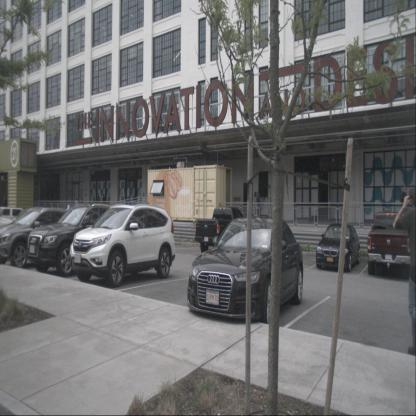human-pedestrian-adult: (392, 186, 416, 358), (400, 186, 408, 226), (256, 191, 261, 223), (96, 192, 100, 212), (102, 194, 106, 212)
vehicle-car: (187, 216, 303, 325), (27, 202, 149, 277), (69, 204, 176, 288), (0, 206, 86, 269), (367, 212, 412, 280), (194, 206, 251, 255), (316, 223, 360, 273)
